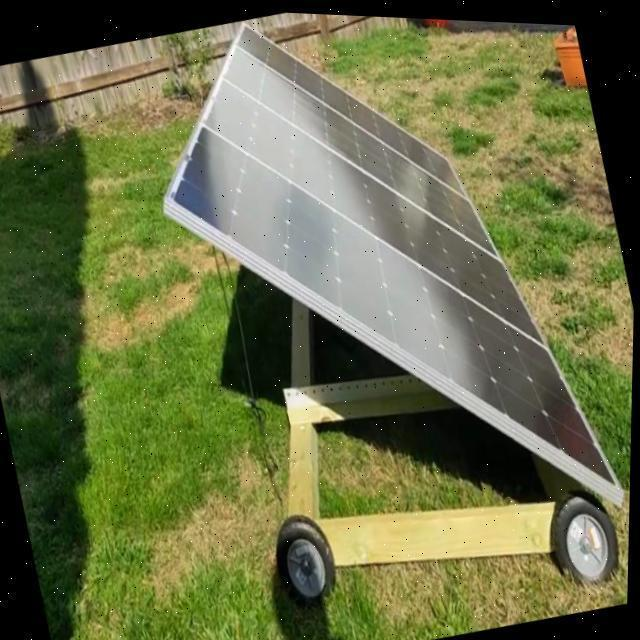Normal Solar Panel: (124, 5, 635, 575)
